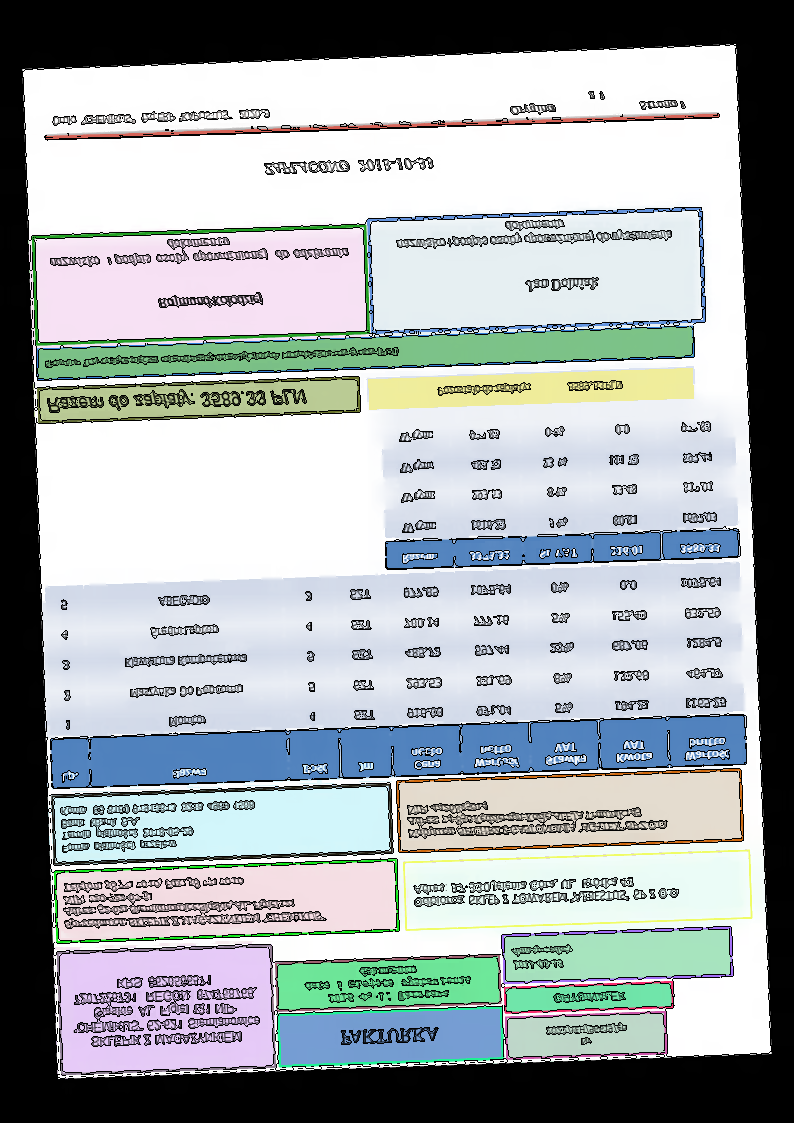Table: (43, 561, 748, 790), (379, 405, 741, 572)
TextBox: (59, 871, 330, 933), (69, 970, 263, 1051), (405, 793, 670, 842), (47, 231, 350, 270), (57, 798, 257, 856), (394, 214, 673, 253), (411, 873, 683, 910), (41, 345, 400, 371), (44, 386, 309, 418), (302, 961, 474, 1006), (508, 87, 687, 117), (51, 107, 271, 129), (263, 155, 434, 178), (436, 378, 623, 398), (336, 1024, 441, 1048), (544, 1020, 629, 1048), (155, 291, 264, 311), (509, 943, 574, 972), (523, 274, 602, 295), (551, 989, 628, 1007)
